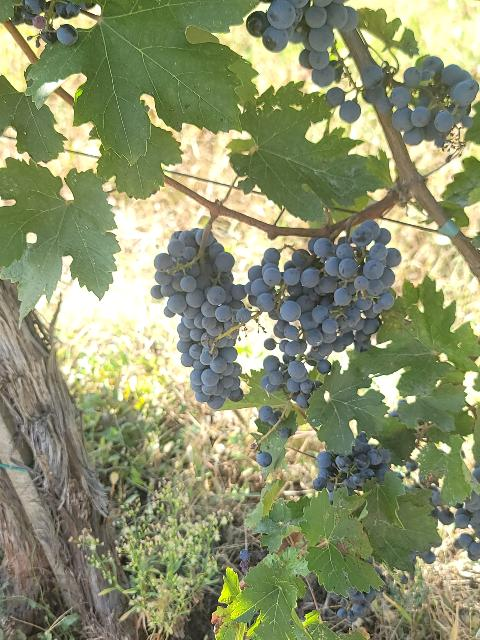grapes: (151, 229, 251, 409), (296, 220, 401, 371), (362, 56, 479, 148), (245, 248, 312, 408), (246, 0, 359, 88)
